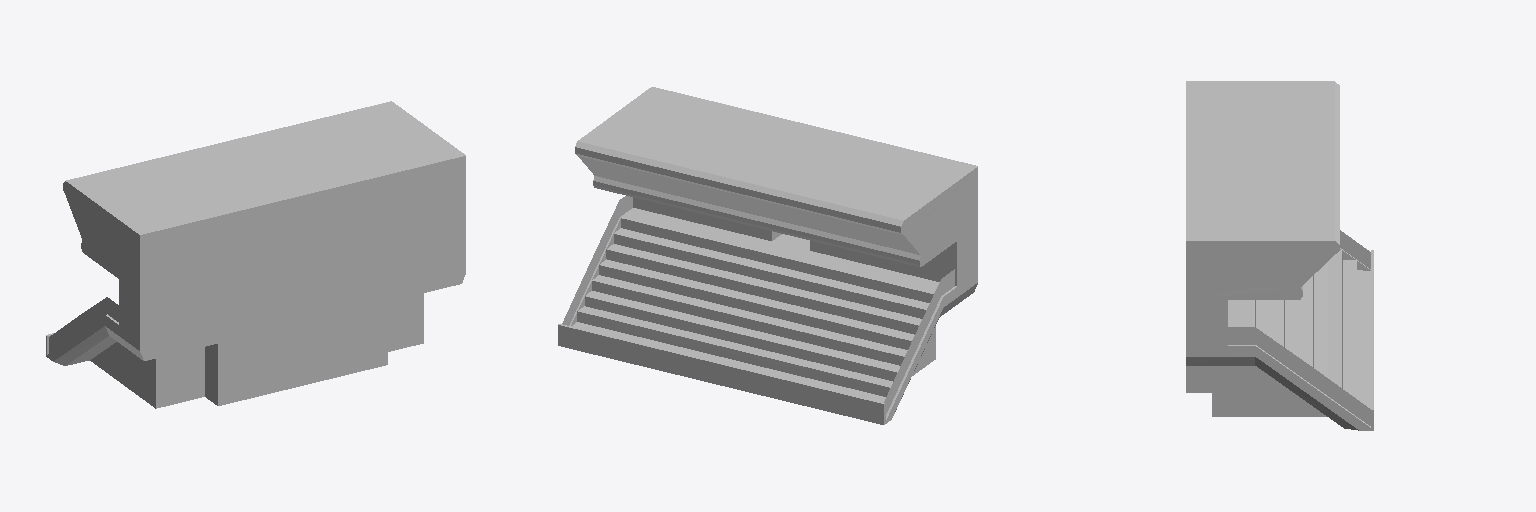
Rendered from grandstand.obj.
3 views of the same model, side by side, from view 1: azimuth 30°, elevation 25°; view 2: azimuth 150°, elevation 25°; view 3: azimuth 270°, elevation 25° (orthographic).
Visible parts, largest first — view 1: Grandstands_Concrete, Grandstands_Side_Fence, Grandstands_Glass; view 2: Grandstands_Concrete, Grandstands_Seats, Grandstands_Glass, Grandstands_Side_Fence; view 3: Grandstands_Concrete, Grandstands_Seats, Grandstands_Side_Fence, Grandstands_Glass.
Boxes of the visible parts, box(x1,y1,x2,y2) form: Grandstands_Concrete: box(46, 101, 465, 408); Grandstands_Side_Fence: box(49, 297, 118, 352); Grandstands_Glass: box(66, 196, 106, 257); Grandstands_Concrete: box(558, 87, 977, 424); Grandstands_Seats: box(571, 217, 933, 402); Grandstands_Glass: box(578, 156, 944, 254); Grandstands_Side_Fence: box(562, 196, 954, 413); Grandstands_Concrete: box(1186, 81, 1373, 430); Grandstands_Seats: box(1253, 250, 1370, 408); Grandstands_Side_Fence: box(1228, 230, 1370, 425); Grandstands_Glass: box(1252, 255, 1333, 287).
Size of the model in its own units: 0.1968 by 0.1096 by 0.0986.